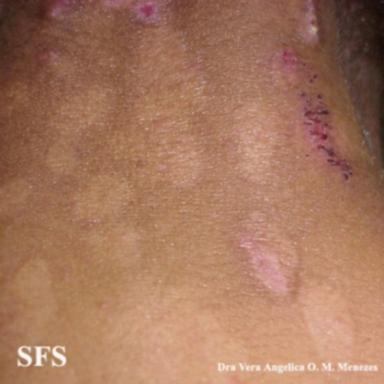Epidermolysis-Bullosa-Pruriginosa: (270, 47, 353, 180), (43, 0, 171, 24), (295, 0, 319, 43)
